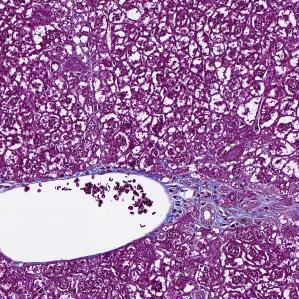fibrosis: (171, 178, 268, 230)
